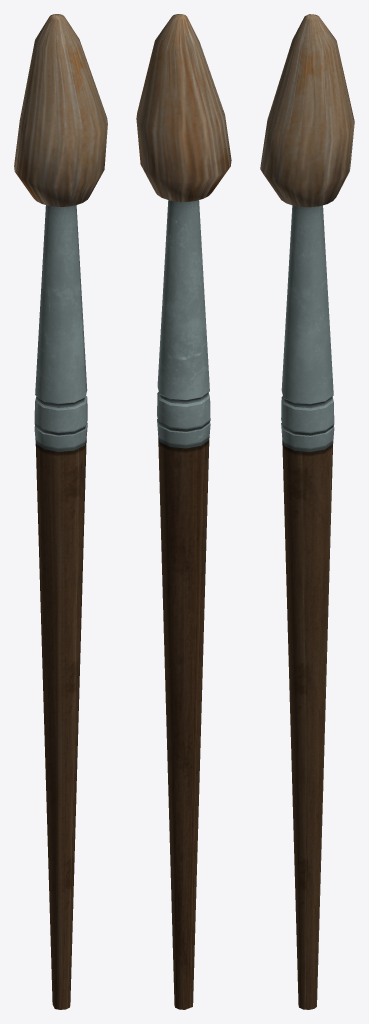
The model's file is medBrush.fbx.
The picture shows the model from 3 angles, left to right: view 1: azimuth 30°, elevation 25°; view 2: azimuth 150°, elevation 25°; view 3: azimuth 330°, elevation 25°; orthographic projection.
Parts seen in each view (by area): view 1: polySurface3; view 2: polySurface3; view 3: polySurface3.
Boxes of the visible parts, bbox=[...] form: polySurface3: bbox=[14, 14, 107, 1009]; polySurface3: bbox=[136, 14, 231, 1009]; polySurface3: bbox=[260, 14, 354, 1009].
Bounding box in the file's own units: 5.74 × 65.55 × 5.47.
1 material, 1 textured.
